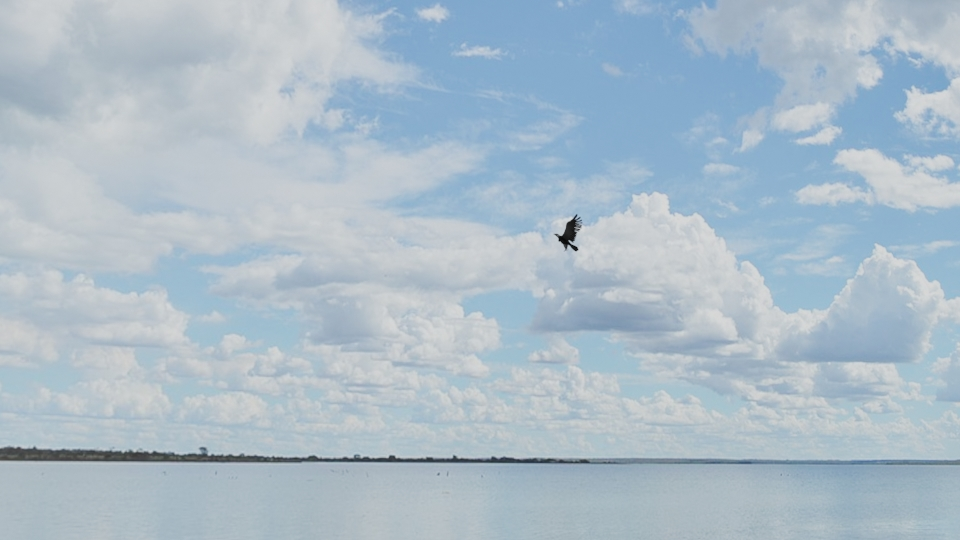bird: (554, 212, 582, 252)
